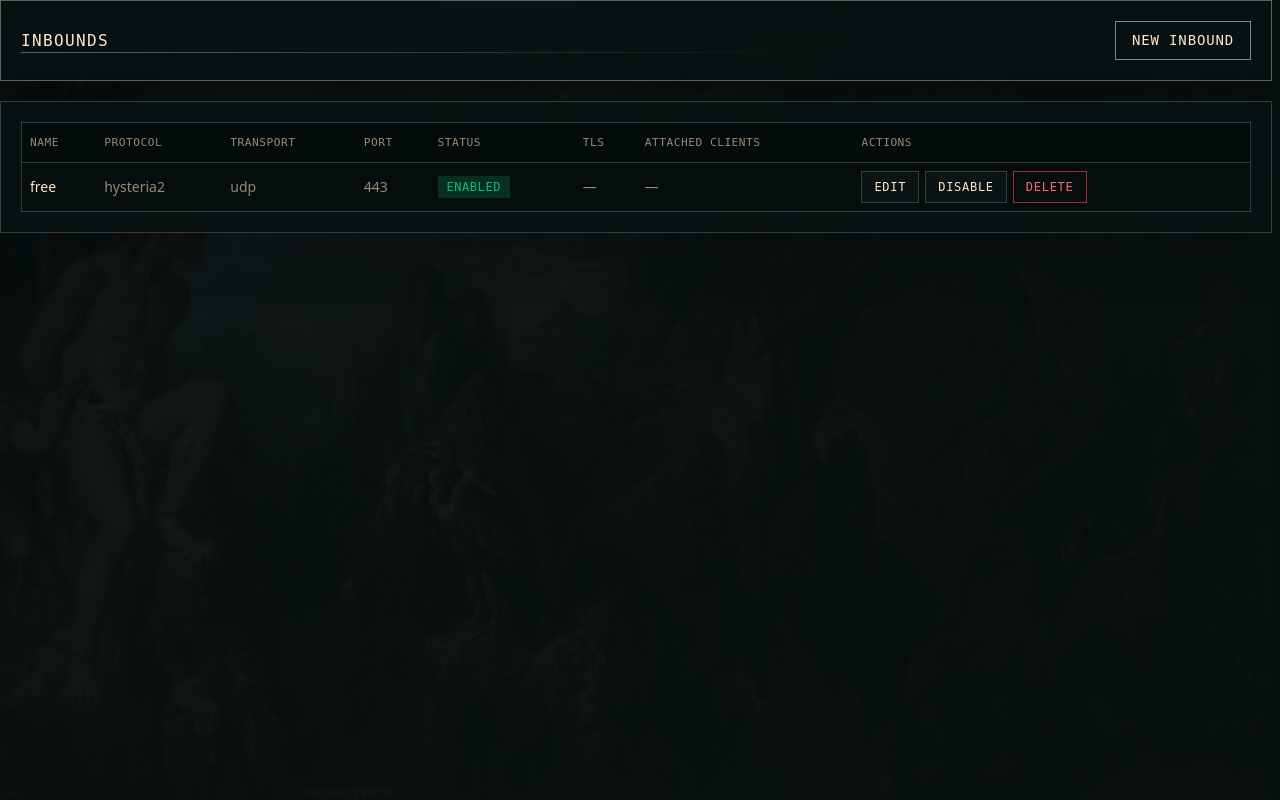
Test: InboundsPage delete confirm › withholds Confirm while the bindings query is still loading
Click the button "Delete".
click(1050, 187)  # box top-left (1013, 171), bottom-right (1086, 203)
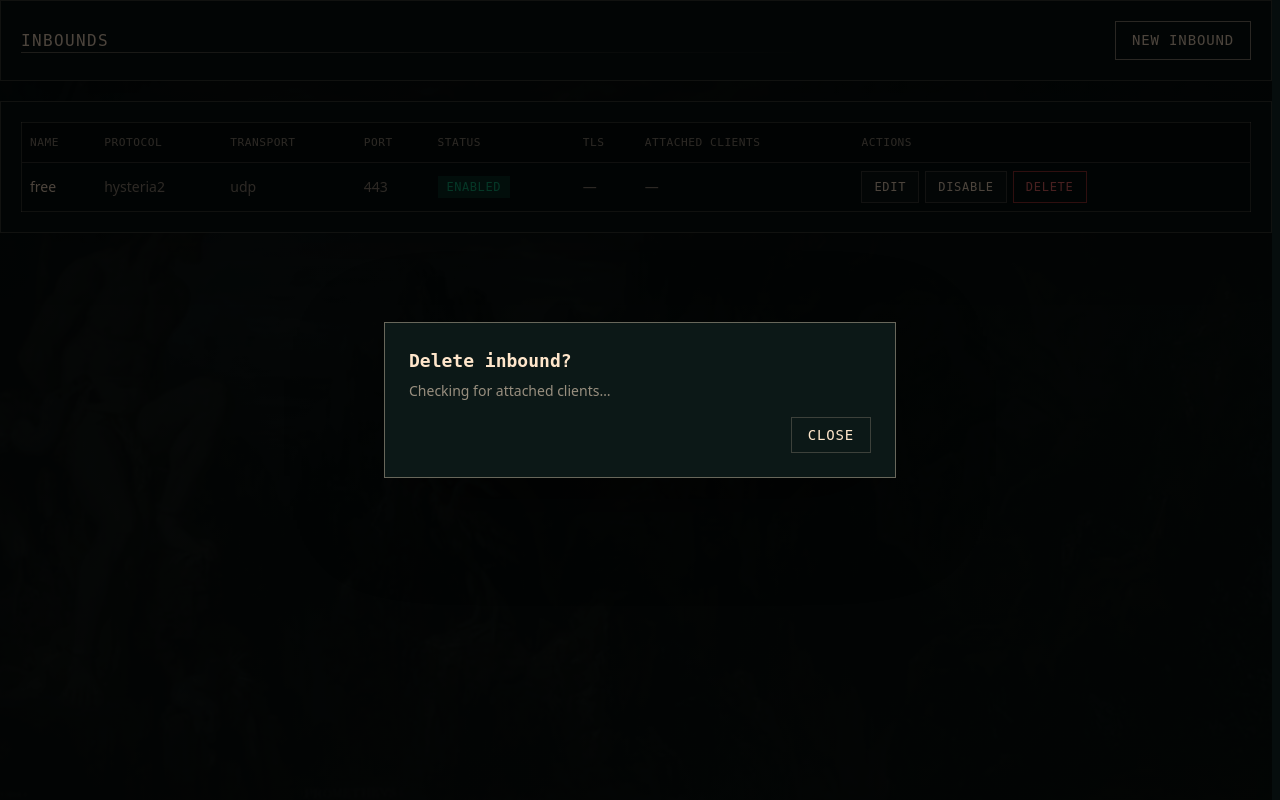
Check: the text "Checking for attached clients…" is shown, box top-left (409, 381), bottom-right (610, 400)
